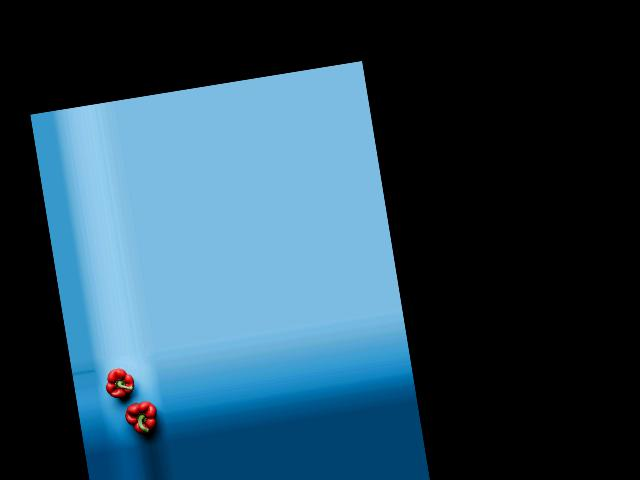bell_pepper: (118, 393, 159, 440)
